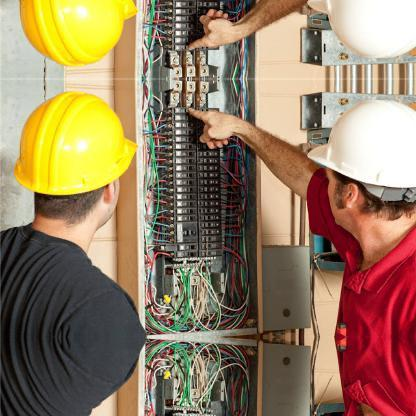Helmet: (5, 77, 153, 255), (290, 76, 414, 268), (4, 0, 154, 78), (290, 0, 414, 78)
